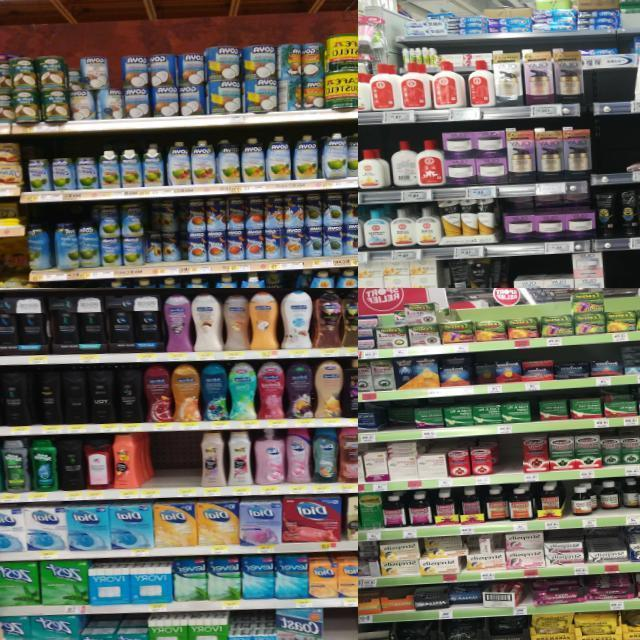Imprecise: (146, 202, 193, 262), (418, 537, 466, 573), (464, 537, 505, 571), (471, 360, 497, 383)
